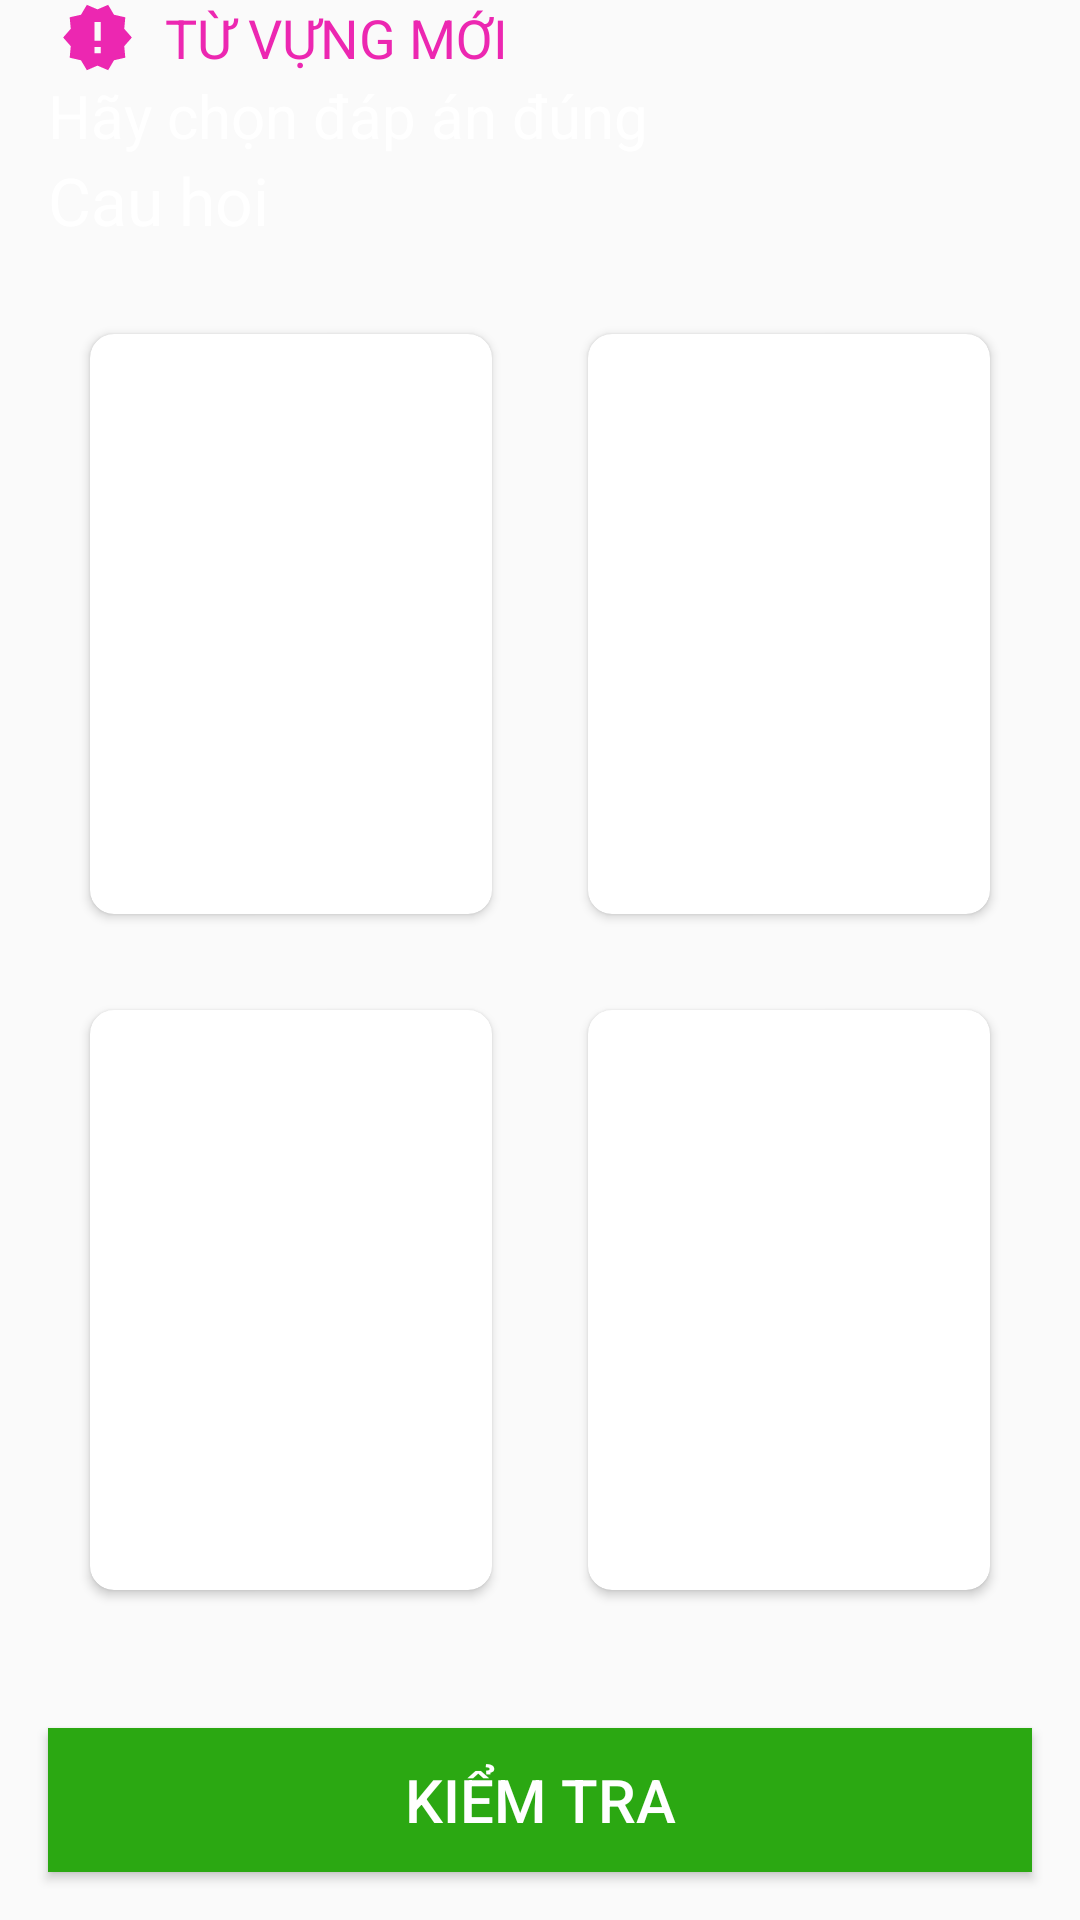

Named icons in this screenshot (1080×1920) and their bounding boxes, (x1,y1,x2,y2):
releases: (63,5,132,70)
